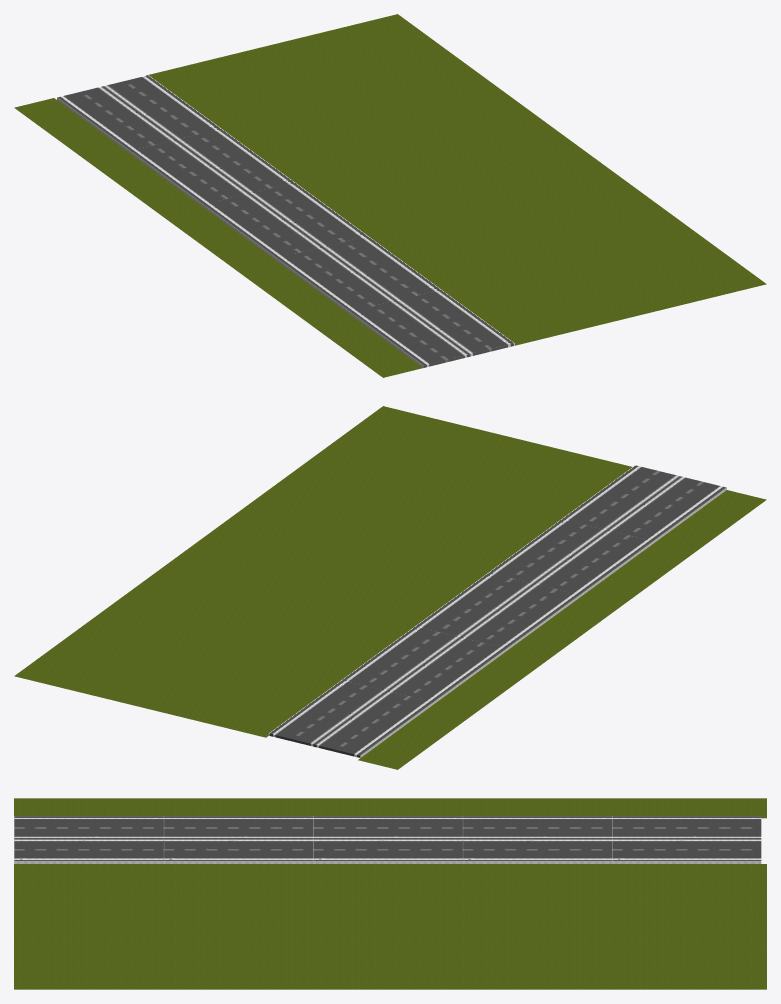
File: GarageOutdoor.fbx
The picture shows the model from 3 angles, top to bottom: view 1: azimuth 30°, elevation 25°; view 2: azimuth 150°, elevation 25°; view 3: azimuth 270°, elevation 25°; orthographic projection.
Visible parts, largest first — view 1: GarageOutdoor; view 2: GarageOutdoor; view 3: GarageOutdoor.
Part boxes in pixels (left/top/right/bottom): GarageOutdoor: left=14, top=14, right=766, bottom=377; GarageOutdoor: left=14, top=406, right=766, bottom=769; GarageOutdoor: left=14, top=798, right=766, bottom=989.
Bounding box in the file's own units: 1650 × 9.7 × 2748.
2 materials, 2 textured.
